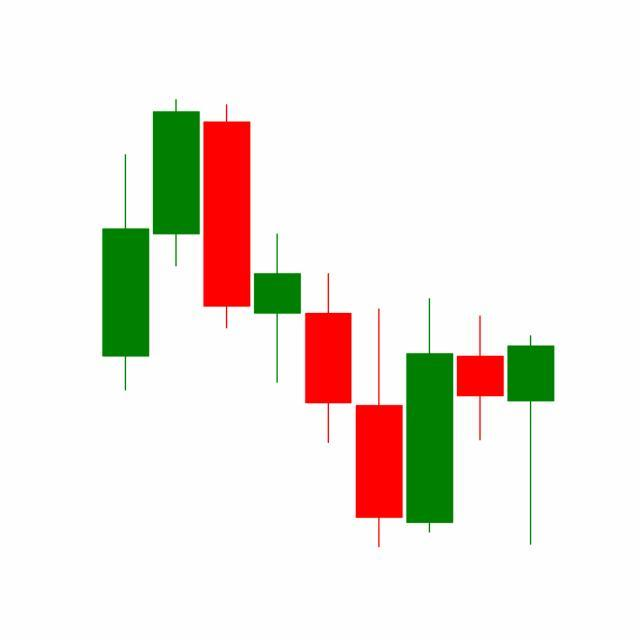Hikkake Pattern: (302, 270, 555, 549)
